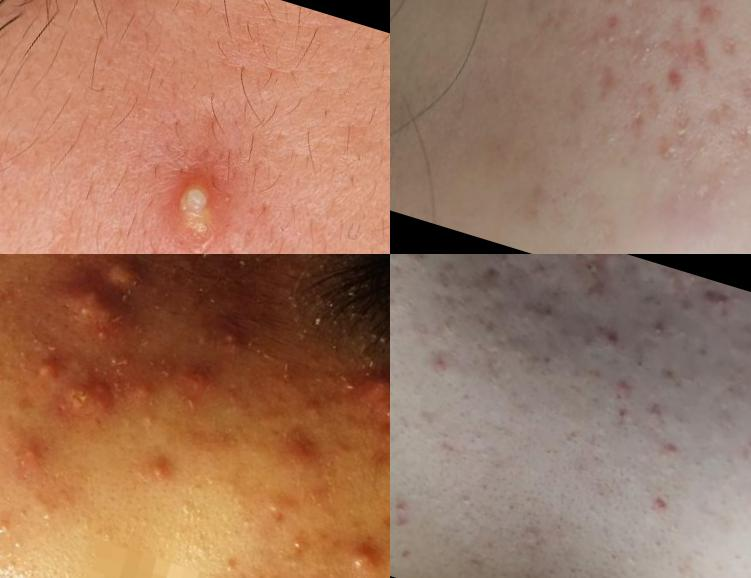acne_scars: (652, 21, 720, 77), (573, 255, 633, 299), (465, 255, 518, 294), (663, 93, 707, 137), (705, 87, 742, 133), (696, 1, 729, 28)
blackhead: (391, 480, 423, 521), (638, 526, 676, 554), (600, 541, 631, 573), (498, 488, 530, 518)
cystic: (136, 148, 266, 255), (94, 255, 150, 301)
papular: (281, 421, 344, 484), (588, 301, 636, 357), (656, 56, 698, 103), (9, 433, 51, 477), (657, 424, 695, 467), (124, 376, 160, 412), (604, 372, 641, 402)
purulent: (337, 535, 391, 578), (26, 345, 66, 397), (139, 456, 176, 489)
sebo-crystan-conglo: (42, 266, 130, 350), (51, 367, 111, 432), (209, 314, 266, 377), (347, 360, 391, 421)
whitehead: (585, 23, 625, 58), (471, 309, 507, 347), (639, 308, 671, 349), (536, 299, 571, 333), (435, 303, 468, 338), (98, 346, 132, 379), (282, 529, 316, 558), (215, 549, 246, 578), (1, 512, 26, 547), (457, 483, 483, 516), (625, 20, 647, 46), (264, 500, 286, 523), (619, 1, 641, 11)
